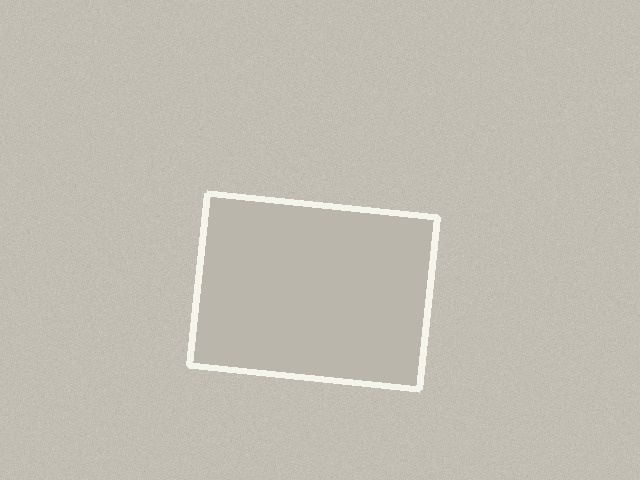parking_area: (189, 193, 437, 389)
